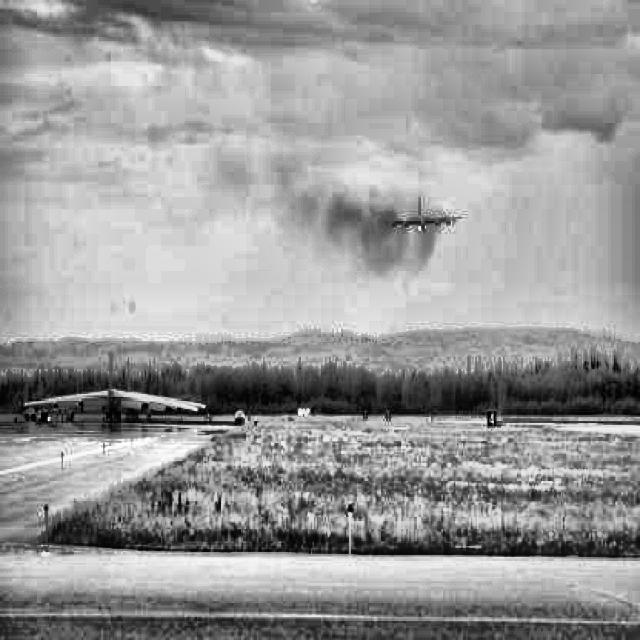B52: (23, 349, 199, 423), (52, 358, 206, 422), (378, 196, 462, 233)
